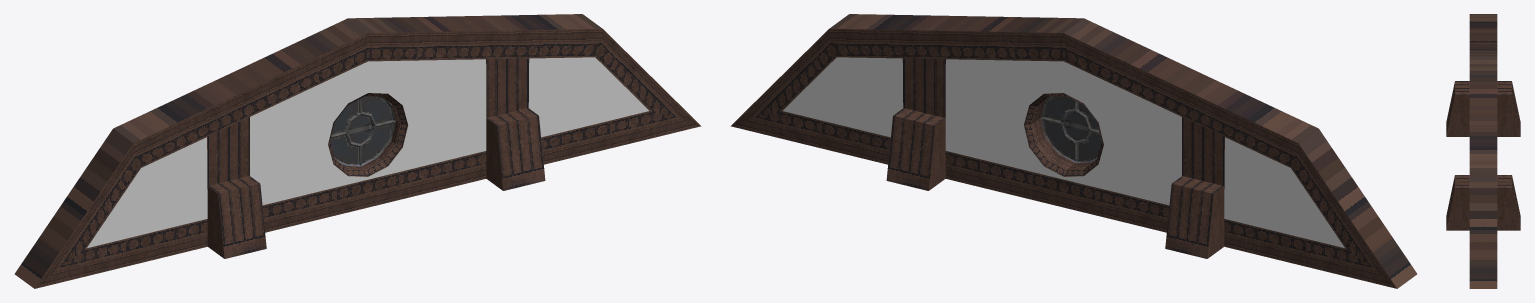
The model's file is sm_wall_wall_03.glb.
The picture shows the model from 3 angles, left to right: view 1: azimuth 30°, elevation 25°; view 2: azimuth 150°, elevation 25°; view 3: azimuth 270°, elevation 25°; orthographic projection. The views are drawn at different scales.
Parts seen in each view (by area): view 1: sm_wall_wall_03.001, Cube.005, arch_big_003.008, arch_big_003.006; view 2: sm_wall_wall_03.001, Cube.005, arch_big_003.008, arch_big_003.006; view 3: sm_wall_wall_03.001, Cube.005.
Boxes of the visible parts, <box> form: sm_wall_wall_03.001: <box>14,14,700,288</box>; Cube.005: <box>207,108,545,258</box>; arch_big_003.008: <box>330,96,392,164</box>; arch_big_003.006: <box>331,96,395,166</box>; sm_wall_wall_03.001: <box>731,14,1417,288</box>; Cube.005: <box>886,108,1224,258</box>; arch_big_003.008: <box>1043,96,1101,161</box>; arch_big_003.006: <box>1041,96,1099,162</box>; sm_wall_wall_03.001: <box>1469,14,1497,288</box>; Cube.005: <box>1446,81,1520,230</box>.
Size of the model in its own units: 19 by 4.75 by 2.67.
Materials: 4 (3 with a texture image).
